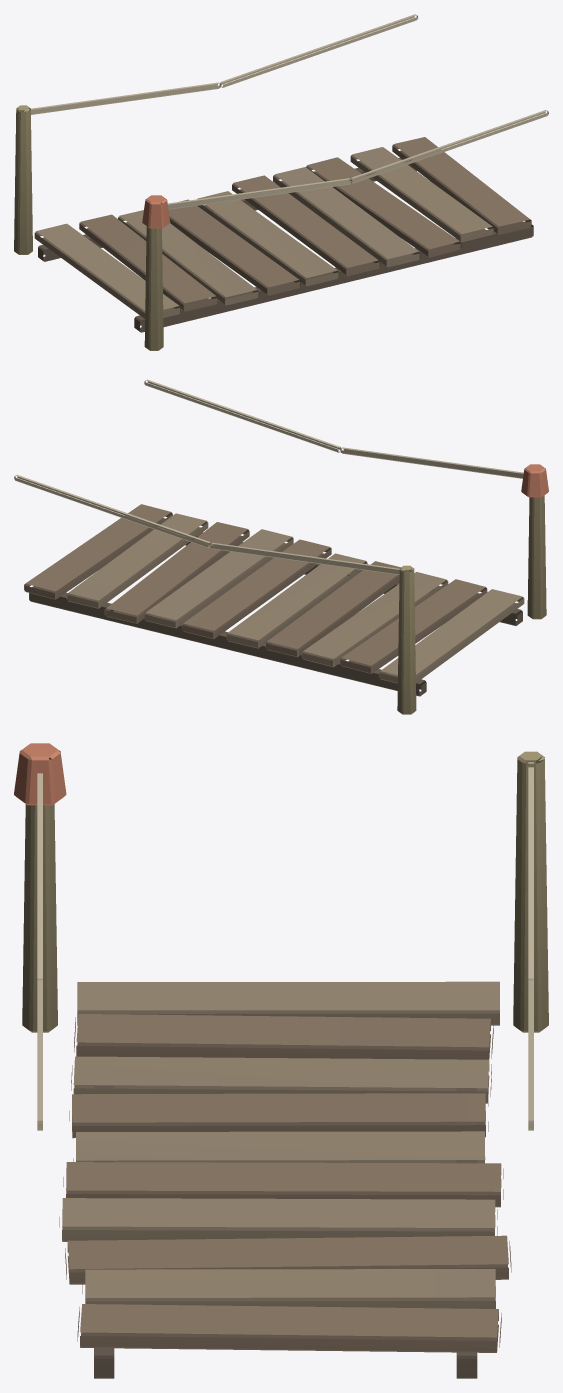
Rendered from iv_bridge.lod.glb.
3 renders of one model, top to bottom at view 1: azimuth 30°, elevation 25°; view 2: azimuth 150°, elevation 25°; view 3: azimuth 270°, elevation 25°, orthographic. The views are drawn at different scales.
Visible parts, largest first — view 1: iv_bridge; view 2: iv_bridge; view 3: iv_bridge.
Boxes of the visible parts, <box> form: iv_bridge: <box>14,14,548,350</box>; iv_bridge: <box>14,379,548,714</box>; iv_bridge: <box>14,743,548,1378</box>.
Bounding box in the file's own units: 4.09 × 1.44 × 2.51.
